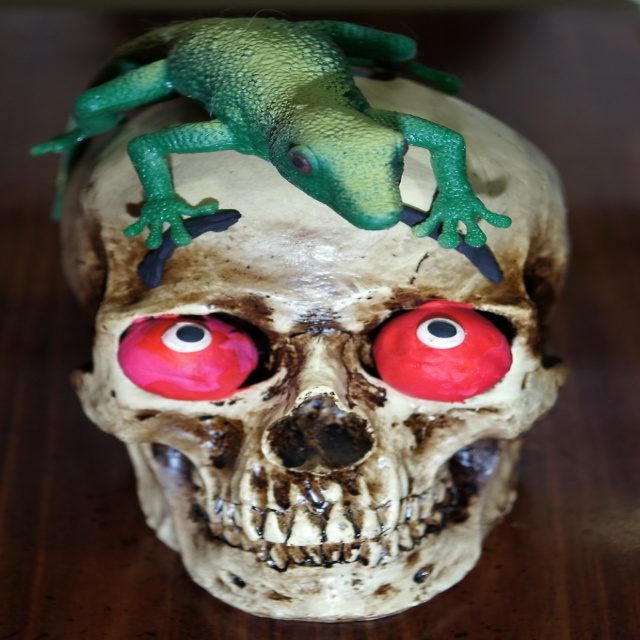Lizard: (43, 23, 545, 267)
